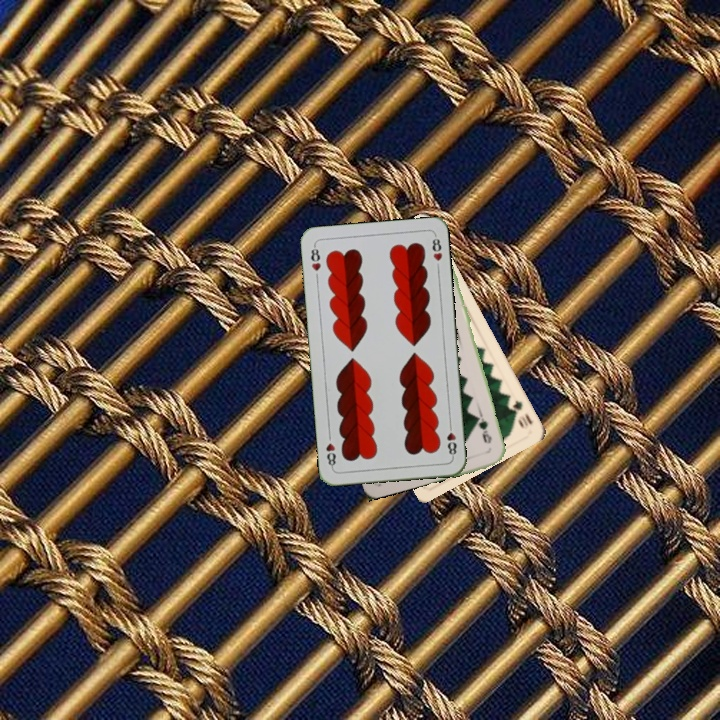G10: (508, 396, 535, 430)
G9: (472, 411, 494, 446)
H8: (443, 420, 459, 460), (307, 241, 323, 274)
